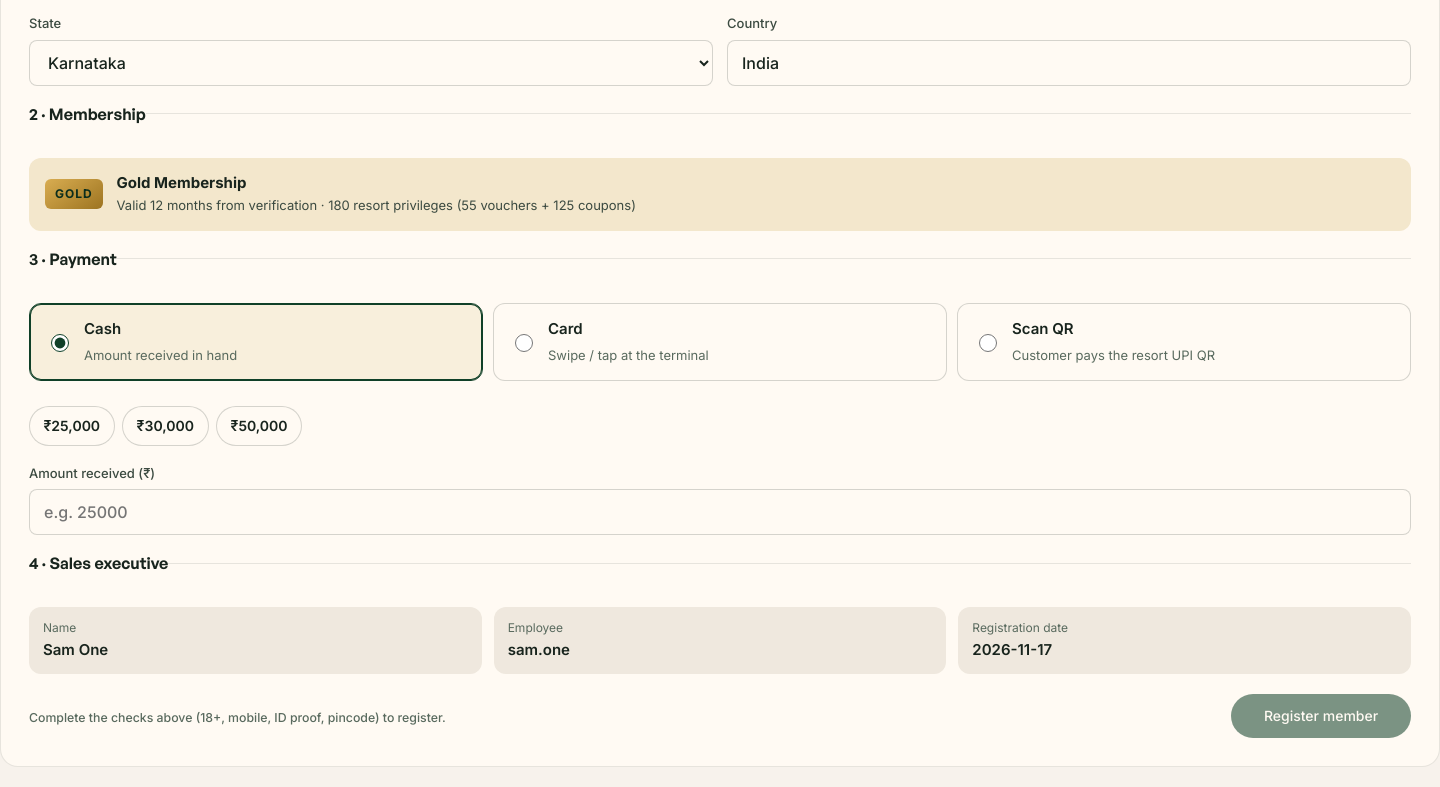
Memberships — Sales Executive › quick amount chips fill the amount
(page scrolled)
What coordinates should you click on to do the following:
click the button "₹30,000"
I would click on:
 (165, 426)
Its box is x1=122 y1=406 x2=208 y2=446.
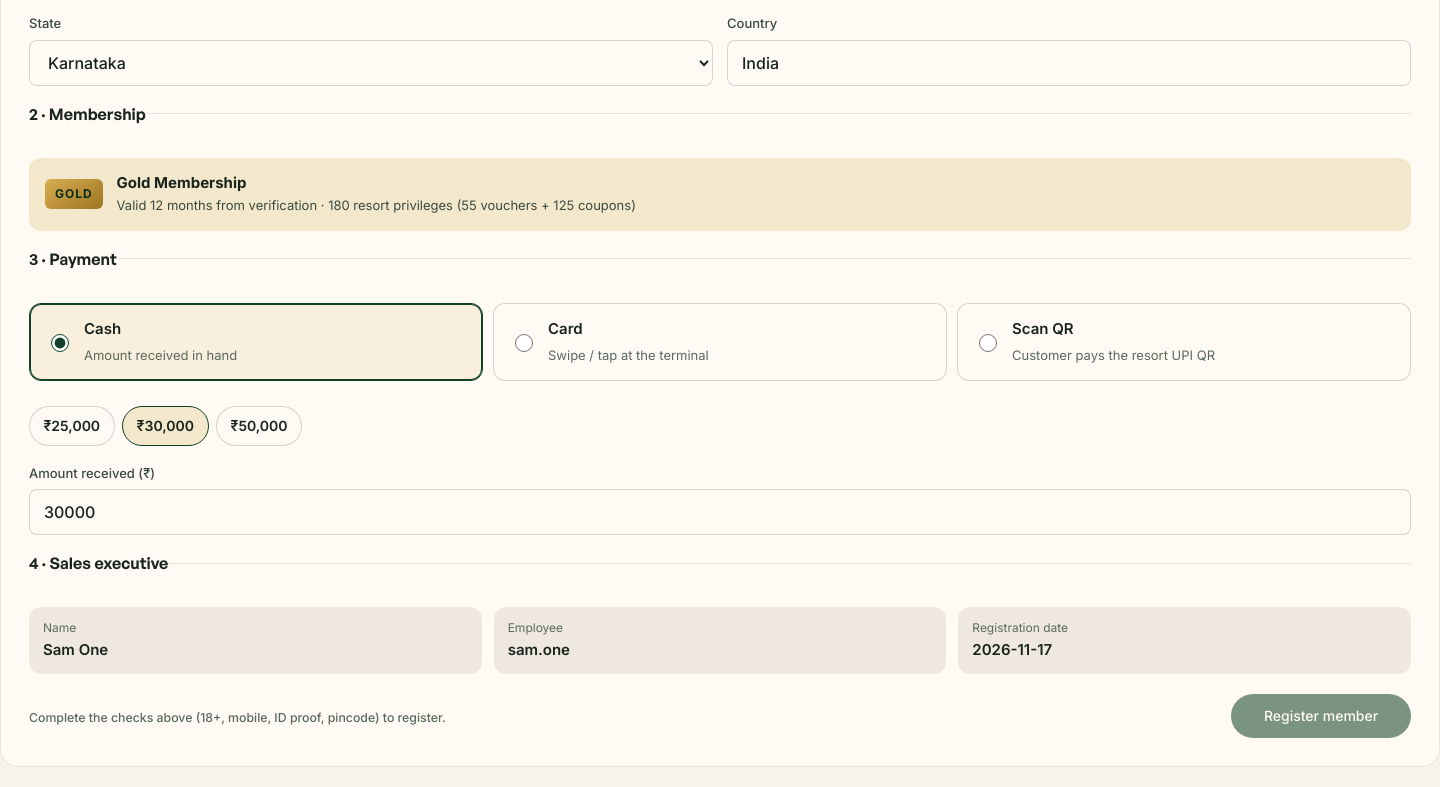
Check: the field labelled "Amount received (₹)" holds "30000", box x1=29 y1=489 x2=1411 y2=535
